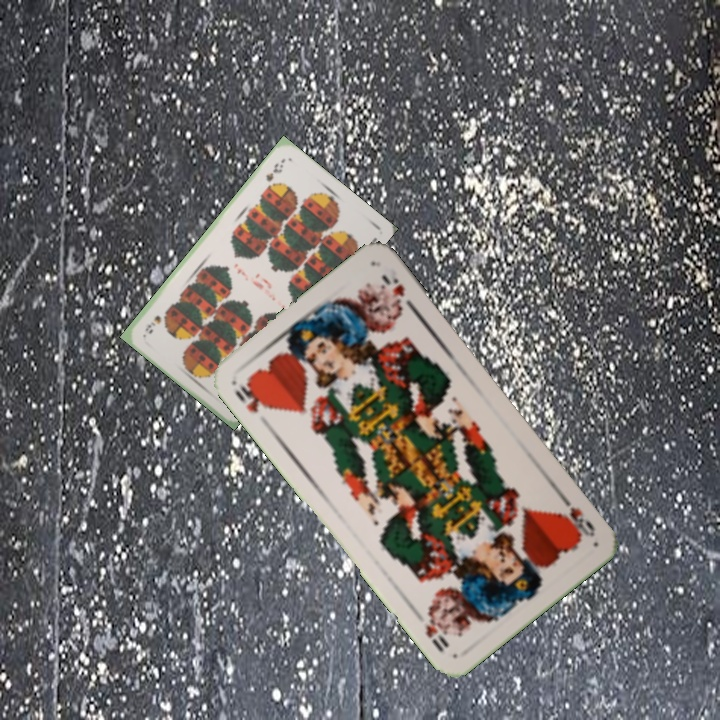HO: (556, 490, 598, 540), (230, 378, 273, 416)
S9: (262, 159, 286, 184)
